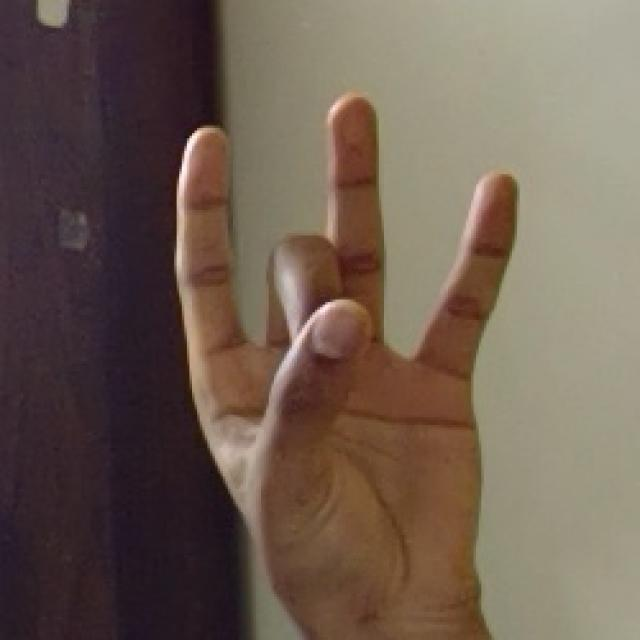Numeric-8: (174, 93, 524, 630)
